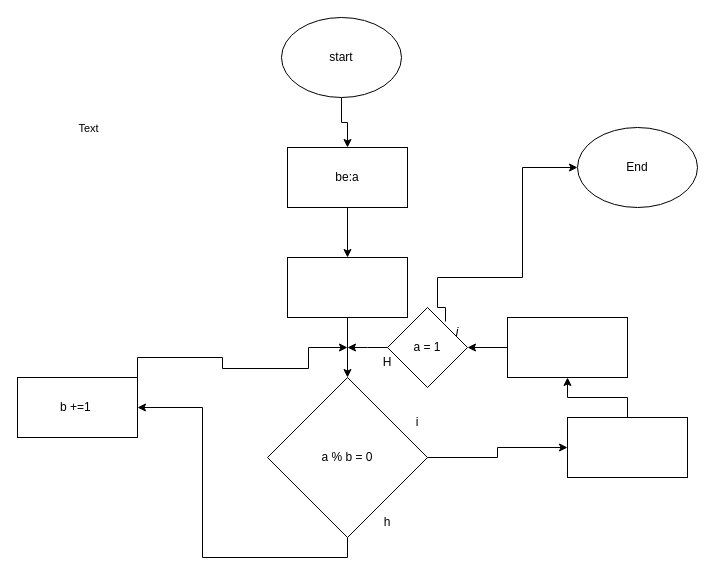
This 715x583 diagram has some shape labels left out. Here are the shapes that lost their labels. From the top down, the centre of each, then its label:
(347,287): b = 2
(567,347): ki: a, b
(627,447): a = a % b
